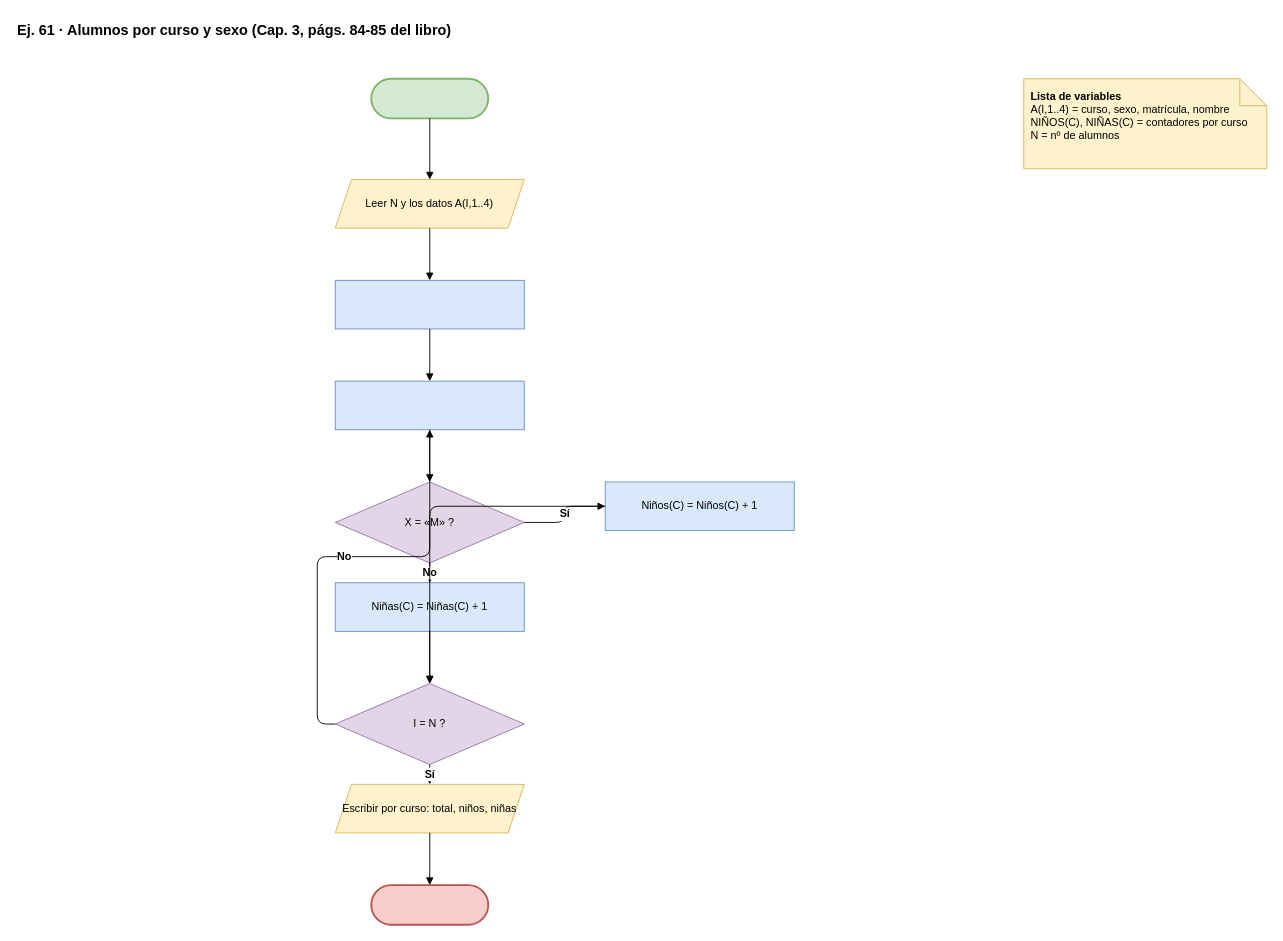
Image size: 1283x941. Some labels were removed from this diagram. The box of each missing label's shape, as (x1, y1, x2, y2) in pixels:
Contadores de niños y niñas por curso = 0 ; I = 0: (334, 279, 524, 329)
Fin: (370, 884, 489, 925)
I = I + 1 ; C = A(I,1) ; X = A(I,2): (334, 380, 524, 430)
Inicio: (370, 77, 489, 119)
